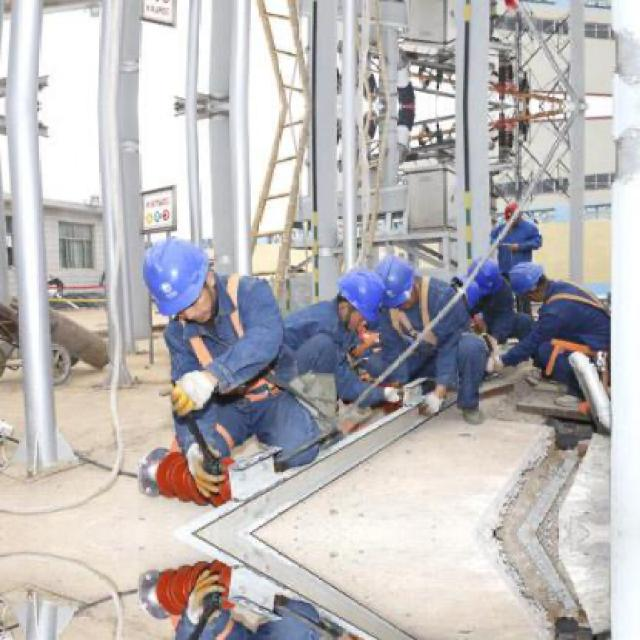con casco: (128, 232, 215, 340), (325, 266, 385, 326), (390, 257, 426, 293), (484, 288, 557, 296)
